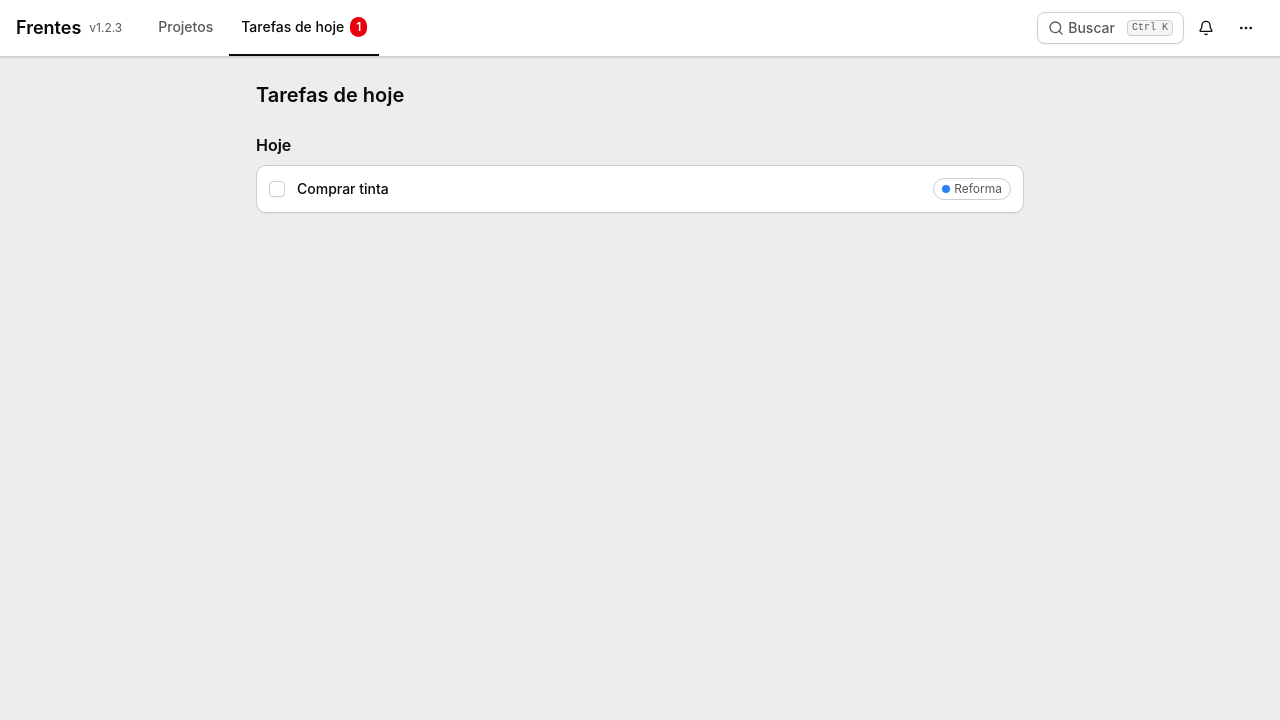
Test case: Lista "Hoje" (01 §4.3, RN-60) › clique no título abre o modal da tarefa na própria tela
The image size is (1280, 720).
Click the button "Comprar tinta".
click(343, 188)  # box [297,179,921,199]
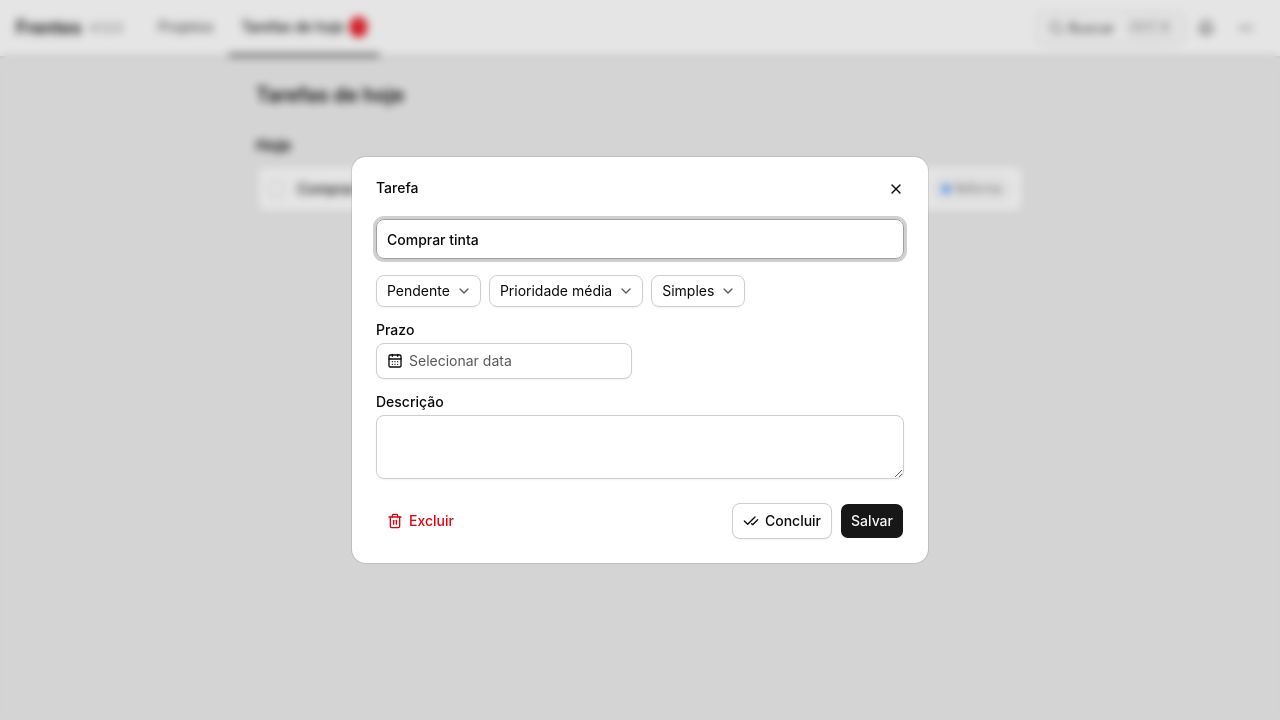
Expected: the heading "Tarefas de hoje" is shown, [256,83,404,107]
Expected: the field showing "Comprar tinta" is shown, [376,219,904,259]
